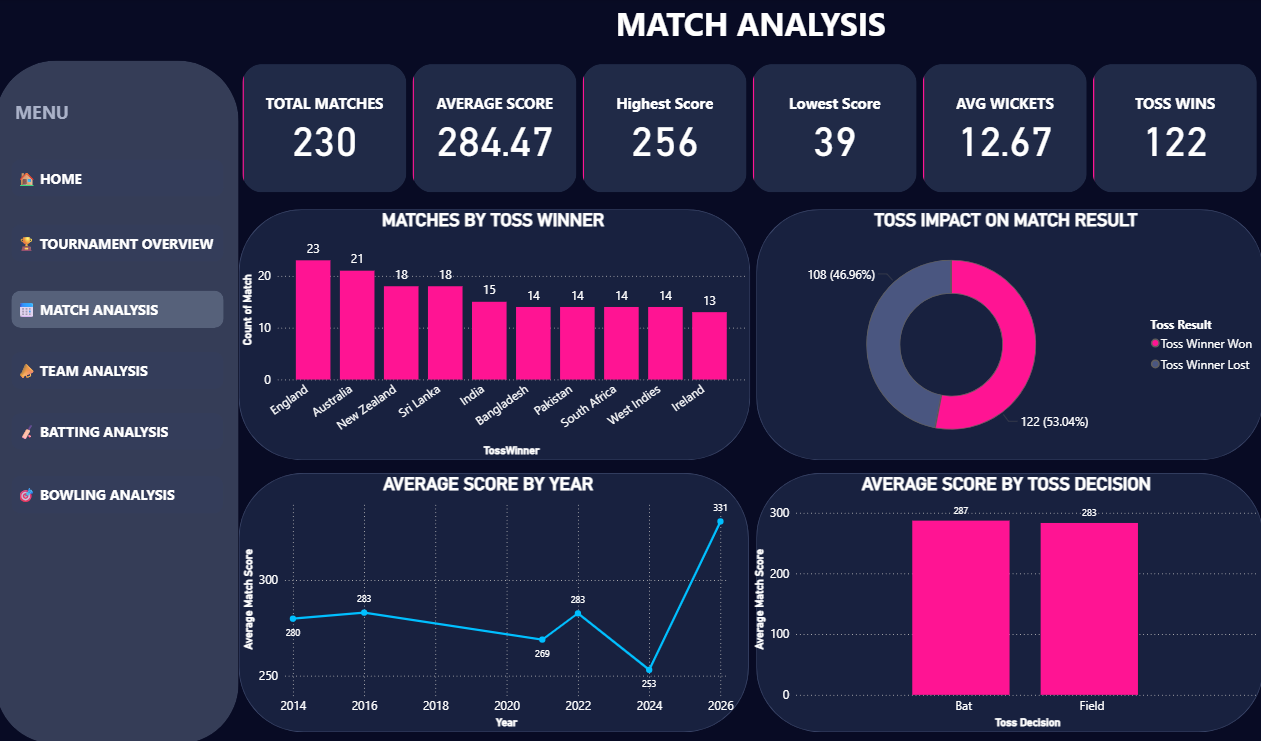

The dashboard page shown, as its layout file describes it:
{"tool":"powerbi","page":{"name":"MATCH ANALYSIS","canvas":[1700,1000],"ordinal":2},"visuals":[{"type":"shape","box":[327.1,637.5,683.7,347.4],"z":0},{"type":"shape","box":[327.1,282.7,685.5,336.3],"z":1000},{"type":"shape","box":[1020,282.7,680,336.3],"z":2000},{"type":"shape","box":[1020,637.5,680,347.4],"z":3000},{"type":"shape","box":[0,83.4,326.7,916.6],"z":4000},{"type":"textbox","box":[21.8,132.4,196,43.6],"z":5000},{"type":"actionButton","box":[21.8,216.2,284.9,50.3],"z":6000},{"type":"actionButton","box":[21.8,303.3,284.9,50.3],"z":7000},{"type":"actionButton","box":[21.8,474.2,284.9,50.3],"z":8000},{"type":"actionButton","box":[21.8,392.1,284.9,50.3],"z":9000},{"type":"actionButton","box":[21.9,555.9,284.3,49.2],"z":10000},{"type":"actionButton","box":[21.9,639.7,284.3,51],"z":11000},{"type":"textbox","box":[326.7,0,1372.3,72.1],"z":12000},{"type":"cardVisual","fields":{"Data":["matches.Total Matches","matches.Average Match Score","matches.Highest Score","matches.Lowest Score","matches.Average Wicket Per Match","matches.Matches Won By Toss Winner"]},"box":[326.7,83.8,1372.3,182.6],"z":13000},{"type":"donutChart","title":"TOSS IMPACT ON MATCH RESULT","fields":{"Category":["matches.Toss Result"],"Y":["CountNonNull(matches.MatchID)"]},"box":[1010.8,282.7,689.2,336.3],"z":14000},{"type":"lineChart","title":"AVERAGE SCORE BY YEAR","fields":{"Category":["matches.Year"],"Y":["matches.Average Match Score"]},"box":[327.1,637.5,668.9,347.4],"z":15000},{"type":"clusteredColumnChart","title":"AVERAGE SCORE BY TOSS DECISION","fields":{"Category":["matches.TossDecision"],"Y":["matches.Average Match Score"]},"box":[1012.6,637.5,687.4,347.4],"z":16000},{"type":"clusteredColumnChart","title":"MATCHES BY TOSS WINNER","fields":{"Category":["matches.TossWinner"],"Y":["CountNonNull(matches.MatchID)"]},"box":[325.2,282.7,685.5,336.3],"z":17000}]}

Visuals, with their boxes in screenshot pixels (x1, y1, x2, y2), scaled from the page's 1700x1000 canvas onto the 1261x741 screenshot:
shape: x1=243 y1=472 x2=750 y2=730
shape: x1=243 y1=209 x2=751 y2=459
shape: x1=757 y1=209 x2=1260 y2=459
shape: x1=757 y1=472 x2=1260 y2=730
shape: x1=0 y1=62 x2=242 y2=740
textbox: x1=16 y1=98 x2=162 y2=130
actionButton: x1=16 y1=160 x2=227 y2=197
actionButton: x1=16 y1=225 x2=227 y2=262
actionButton: x1=16 y1=351 x2=227 y2=389
actionButton: x1=16 y1=291 x2=227 y2=328
actionButton: x1=16 y1=412 x2=227 y2=448
actionButton: x1=16 y1=474 x2=227 y2=512
textbox: x1=242 y1=0 x2=1260 y2=53
cardVisual - matches.Total Matches x matches.Average Match Score: x1=242 y1=62 x2=1260 y2=197
"TOSS IMPACT ON MATCH RESULT" donutChart: x1=750 y1=209 x2=1260 y2=459
"AVERAGE SCORE BY YEAR" lineChart: x1=243 y1=472 x2=739 y2=730
"AVERAGE SCORE BY TOSS DECISION" clusteredColumnChart: x1=751 y1=472 x2=1260 y2=730
"MATCHES BY TOSS WINNER" clusteredColumnChart: x1=241 y1=209 x2=750 y2=459
